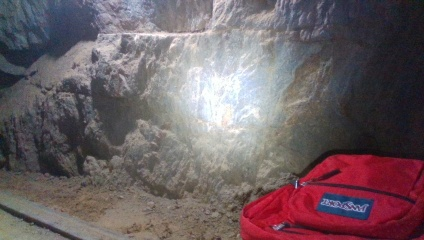backpack: (237, 154, 422, 238)
